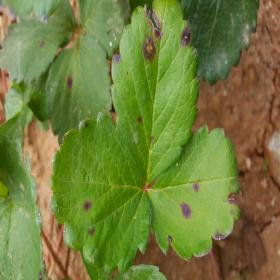Leaf Spot: (110, 0, 200, 188), (49, 112, 151, 275), (145, 124, 245, 262), (45, 34, 113, 147), (0, 136, 53, 279), (0, 18, 60, 85)
